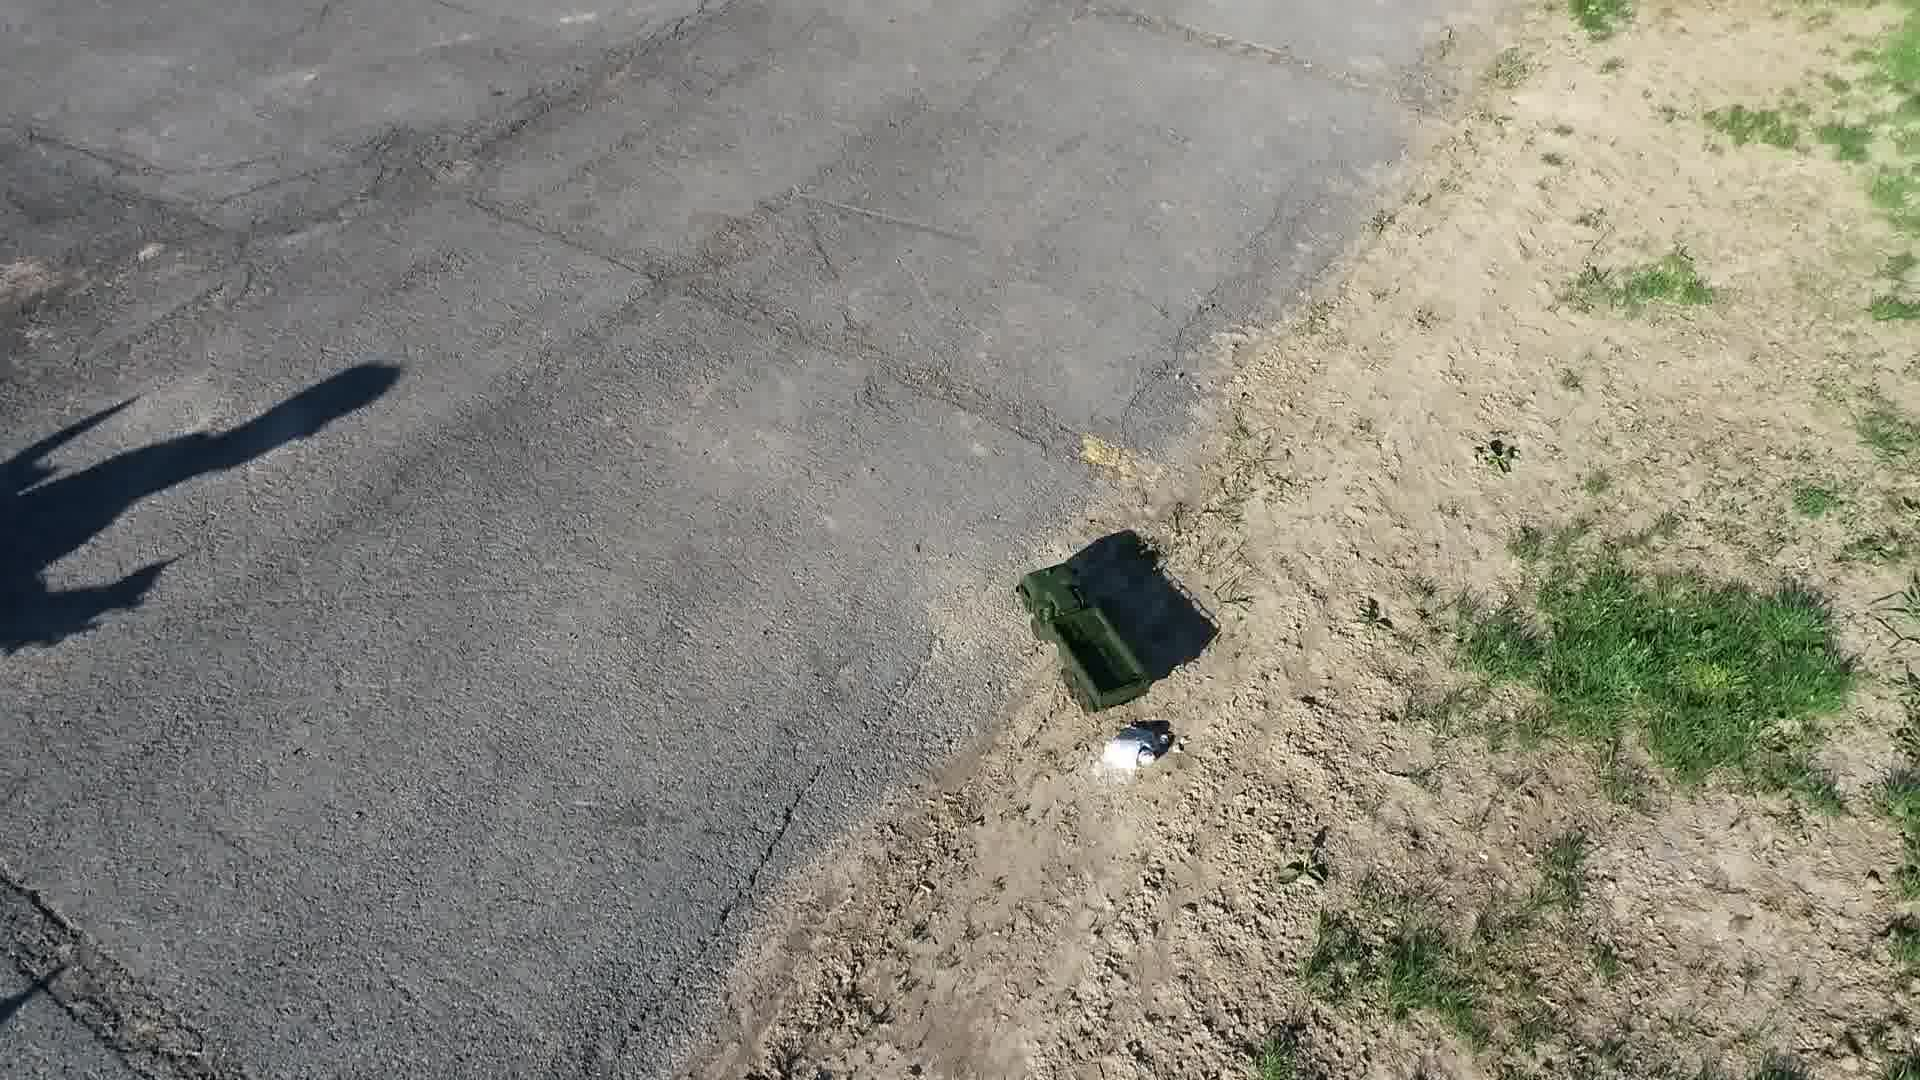transporter9: (1007, 555, 1155, 713)
